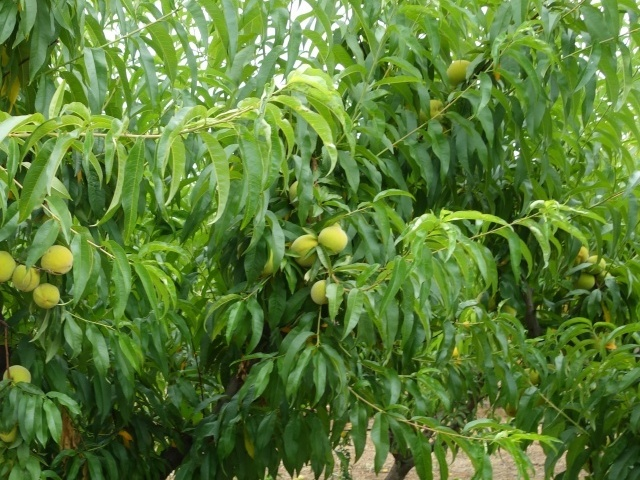peach: (38, 242, 77, 278), (289, 231, 327, 265), (315, 223, 351, 257), (444, 55, 479, 88), (10, 259, 41, 294), (1, 363, 36, 394), (32, 279, 65, 310), (417, 98, 448, 128), (306, 275, 332, 306), (584, 254, 608, 277), (575, 269, 597, 290)
